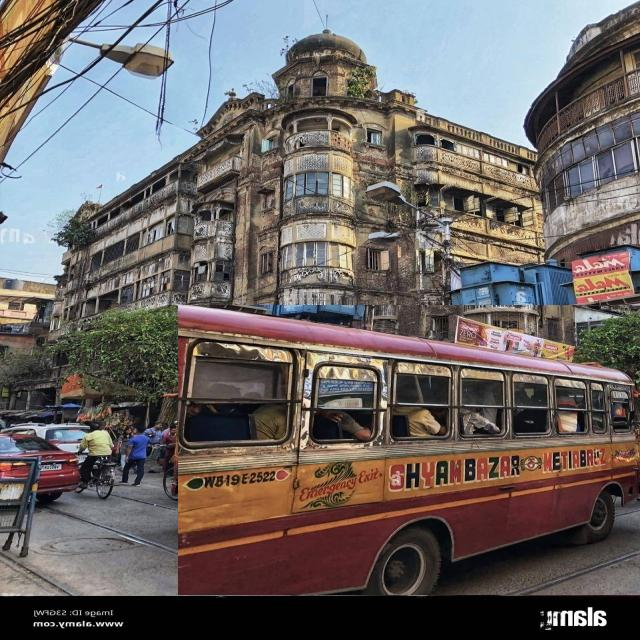bicycle: (76, 421, 115, 499)
bus: (178, 305, 640, 595)
car: (0, 434, 79, 502)
